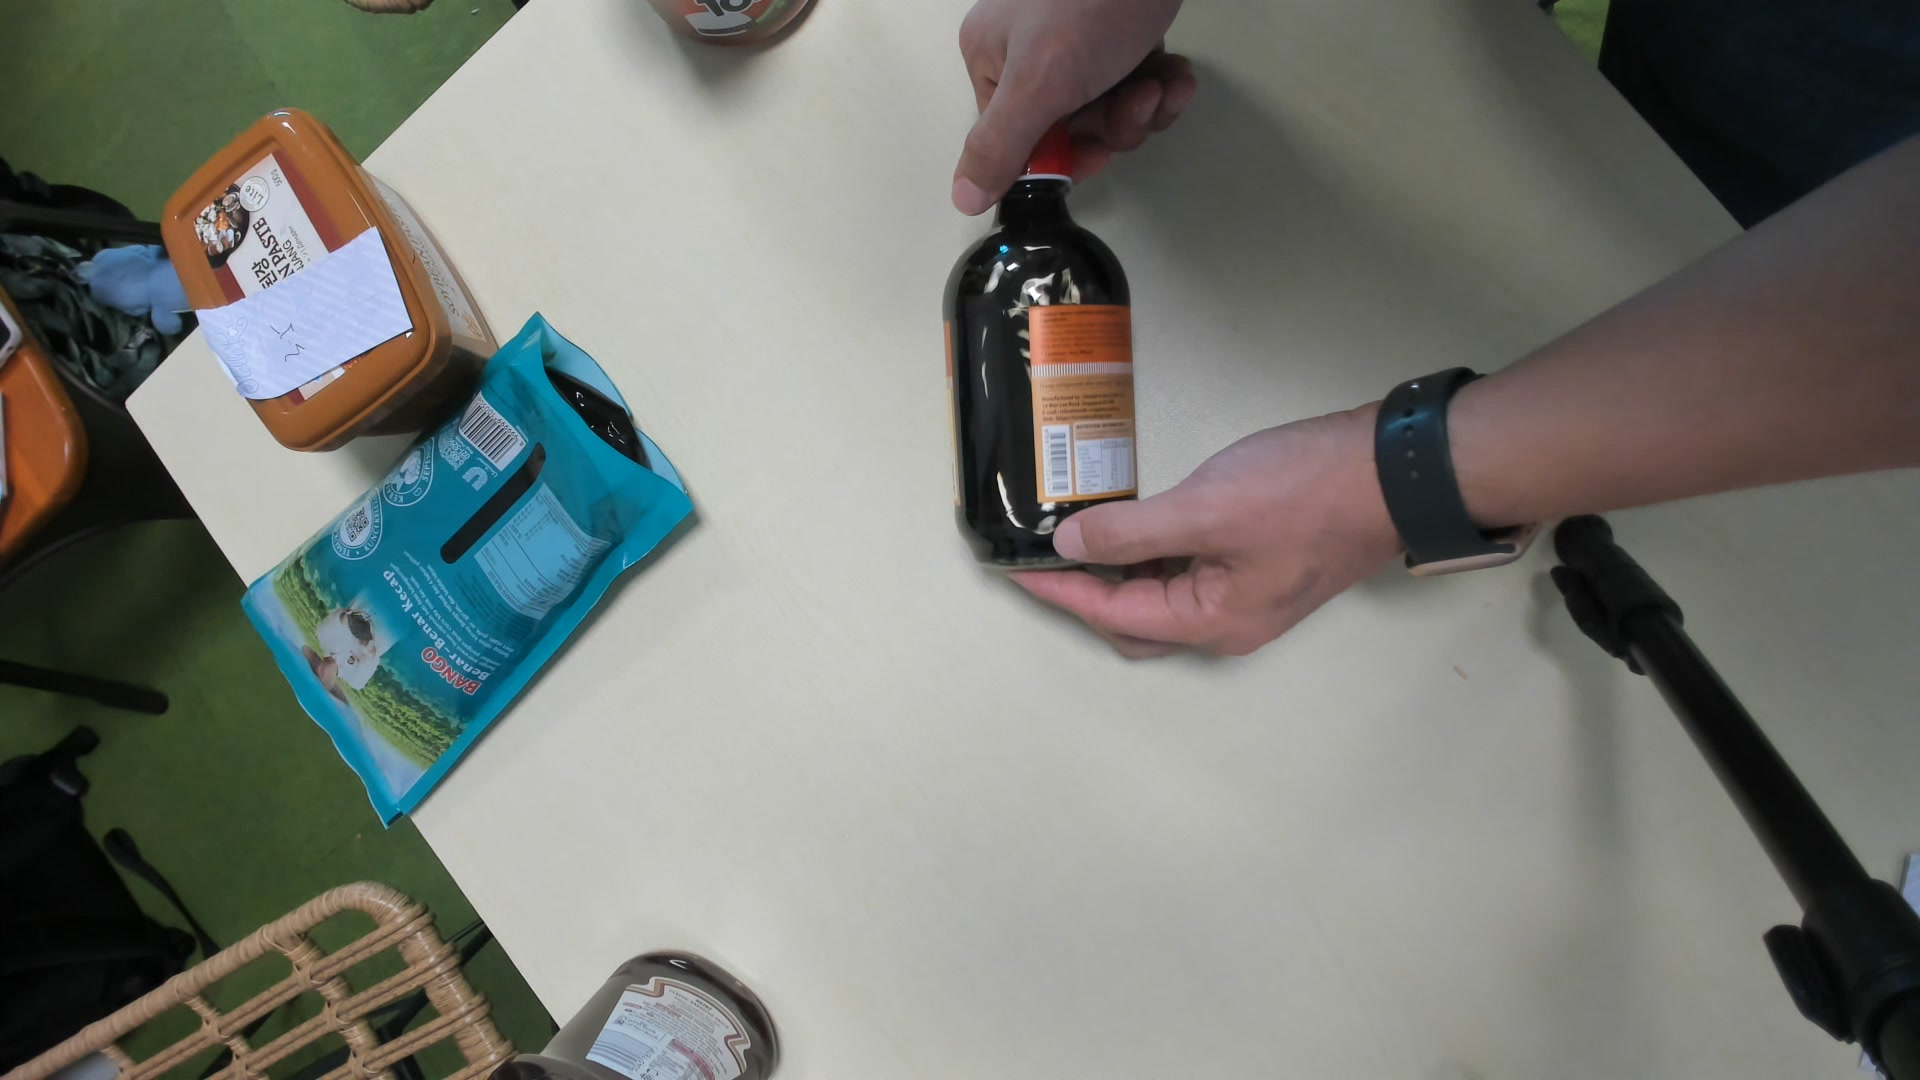OtherSauceDressing_400-499g_NonHalal_NonHealthy: (942, 127, 1135, 580)
